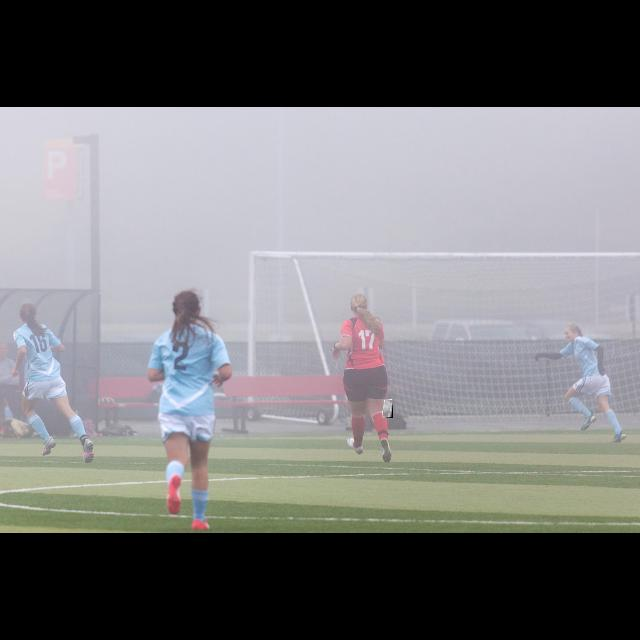Football: (383, 400, 393, 418)
